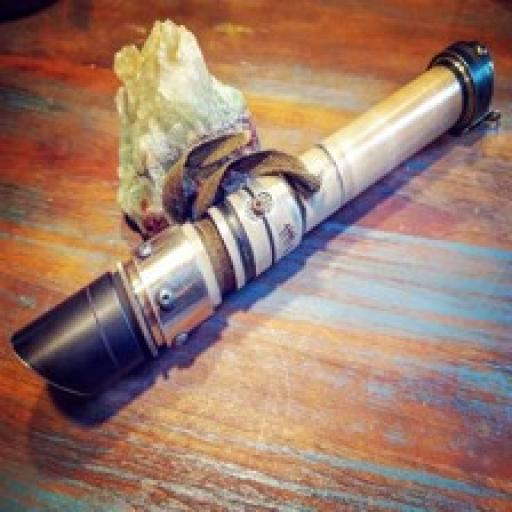lightsaber: (0, 38, 495, 406)
